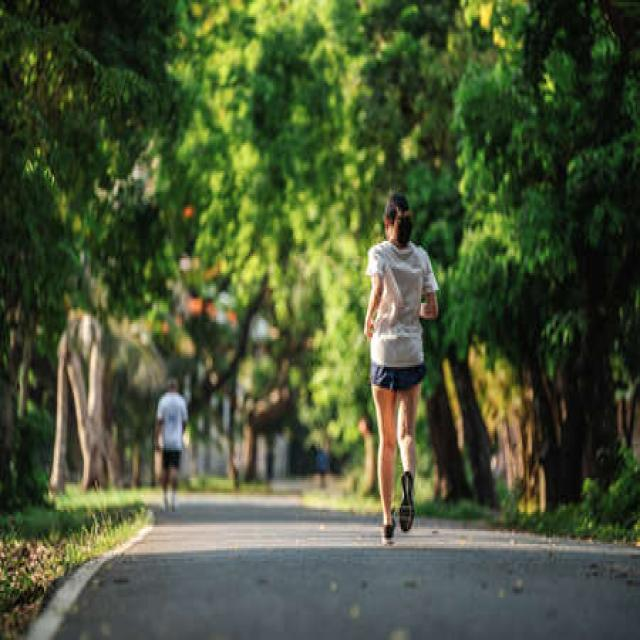Person: (365, 191, 439, 546), (155, 378, 189, 512)
